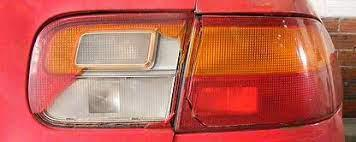Taillight-Damage: (9, 0, 355, 141)
